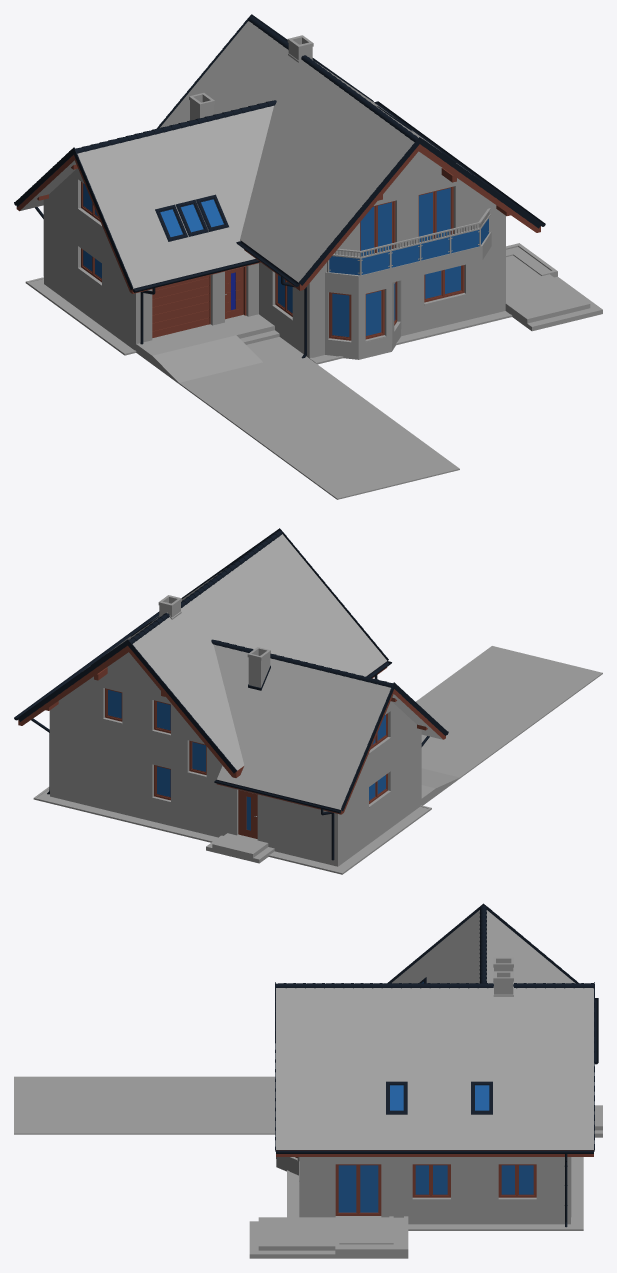
3 renders of one model, top to bottom at view 1: azimuth 30°, elevation 25°; view 2: azimuth 150°, elevation 25°; view 3: azimuth 270°, elevation 25°, orthographic. The views are drawn at different scales.
Parts seen in each view (by area): view 1: roof, ground_around_house, wall_exterior, roof_001, window_011, terrace, barrels_001, cover_sides_001, door_garage, balcony, cover_roof_001, gutter_001 (+4 smaller); view 2: wall_exterior, roof, roof_001, ground_around_house, cover_sides_001, window_011, cover_roof_001, gutter_001, chimney_002, door_wing_013; view 3: roof, ground_around_house, wall_exterior, roof_001, window_011, terrace, cover_roof_001, flower_pot, gutter_001, window_roof, cover_sides_001, chimney_002.
Part boxes in pixels (x1,y1,x2,y2): roof: (160, 21, 540, 290); ground_around_house: (25, 277, 512, 499); wall_exterior: (43, 151, 505, 359); roof_001: (16, 105, 273, 293); window_011: (77, 181, 466, 343); terrace: (505, 255, 602, 331); barrels_001: (327, 208, 490, 275); cover_sides_001: (15, 14, 541, 289); door_garage: (152, 275, 210, 337); balcony: (325, 232, 491, 290); cover_roof_001: (75, 16, 418, 153); gutter_001: (14, 101, 545, 358); wall_exterior: (49, 652, 421, 866); roof: (18, 534, 387, 777); roof_001: (213, 644, 445, 814); ground_around_house: (33, 646, 602, 874); cover_sides_001: (17, 528, 447, 811); window_011: (103, 688, 390, 807); cover_roof_001: (129, 530, 392, 687); gutter_001: (14, 611, 448, 860); chimney_002: (158, 595, 270, 690); door_wing_013: (238, 790, 257, 838); roof: (276, 988, 593, 1156); ground_around_house: (14, 1076, 602, 1230); wall_exterior: (276, 1157, 571, 1224); roof_001: (392, 910, 575, 983); window_011: (288, 1157, 536, 1215); terrace: (249, 1216, 389, 1258); cover_roof_001: (276, 905, 593, 988); flower_pot: (335, 1216, 408, 1258); gutter_001: (276, 998, 598, 1227); window_roof: (386, 977, 492, 1114); cover_sides_001: (275, 903, 594, 1151); chimney_002: (493, 957, 513, 996).
Size of what is drawn, in the model's own units: 6.91 by 3.53 by 9.13.
